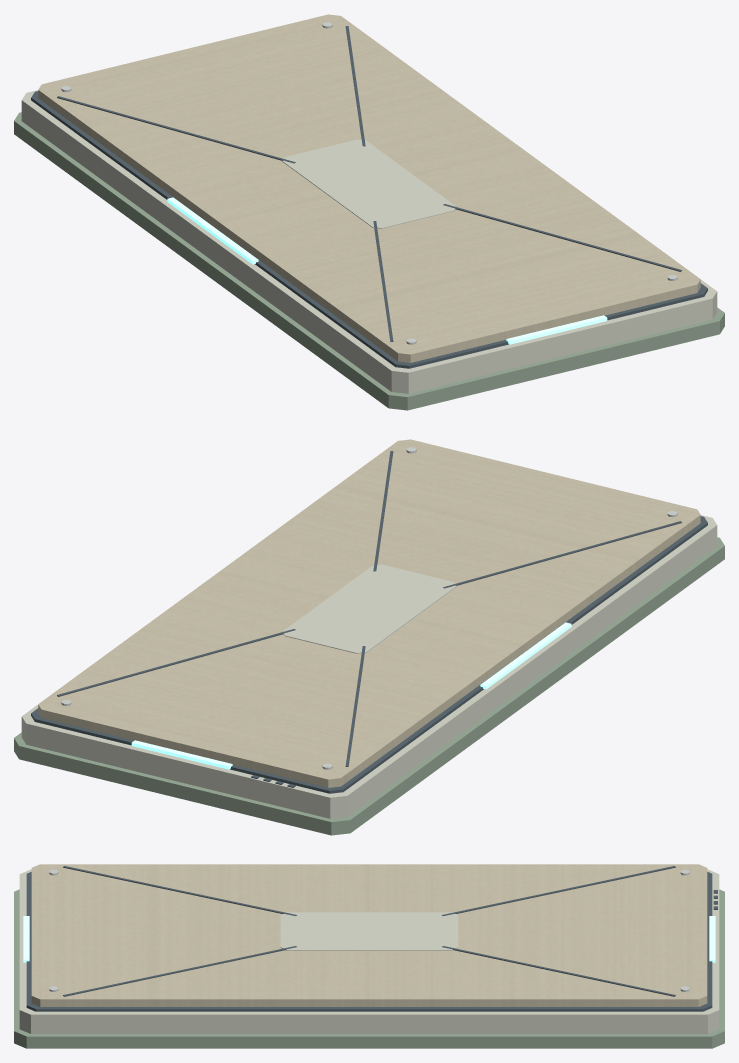
File: m01-metal-half-z.glb
3 renders of one model, top to bottom at view 1: azimuth 30°, elevation 25°; view 2: azimuth 150°, elevation 25°; view 3: azimuth 270°, elevation 25°, orthographic. The views are drawn at different scales.
Parts seen in each view (by area): view 1: half-z/003, half-z/001, half-z/000, half-z/004, half-z/002, half-z/015, half-z/008, half-z/005, half-z/014; view 2: half-z/003, half-z/001, half-z/000, half-z/004, half-z/002, half-z/015, half-z/007, half-z/006, half-z/013; view 3: half-z/003, half-z/001, half-z/000, half-z/004, half-z/002, half-z/007, half-z/008, half-z/005, half-z/006, half-z/013, half-z/014.
Part boxes in pixels (x1,y1,x2,y2): half-z/003: [38, 14, 700, 362]; half-z/001: [21, 90, 717, 393]; half-z/000: [14, 112, 724, 410]; half-z/004: [282, 139, 456, 228]; half-z/002: [31, 91, 707, 368]; half-z/015: [167, 197, 258, 264]; half-z/008: [443, 204, 681, 271]; half-z/005: [57, 96, 295, 163]; half-z/014: [506, 315, 607, 344]; half-z/003: [38, 439, 700, 787]; half-z/001: [21, 515, 717, 818]; half-z/000: [14, 537, 724, 835]; half-z/004: [282, 564, 456, 653]; half-z/002: [31, 516, 707, 793]; half-z/015: [480, 622, 571, 689]; half-z/007: [57, 629, 295, 696]; half-z/006: [443, 521, 681, 588]; half-z/013: [131, 740, 232, 769]; half-z/003: [31, 864, 707, 1006]; half-z/001: [19, 869, 719, 1033]; half-z/000: [14, 889, 724, 1048]; half-z/004: [280, 912, 458, 950]; half-z/002: [26, 872, 712, 1011]; half-z/007: [442, 946, 675, 996]; half-z/008: [63, 946, 296, 996]; half-z/005: [442, 866, 675, 915]; half-z/006: [63, 866, 296, 915]; half-z/013: [709, 916, 715, 962]; half-z/014: [23, 916, 29, 962].
Size of the model in its own units: 0.5 by 0.0678 by 1.
6 materials, 1 textured.
